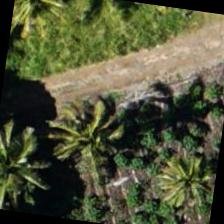Kelapa_Sawit: (48, 69, 150, 171), (133, 129, 221, 223), (0, 121, 59, 216), (8, 0, 65, 51)
